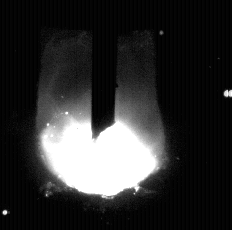arame: (92, 0, 116, 138)
poca: (37, 0, 166, 230)
